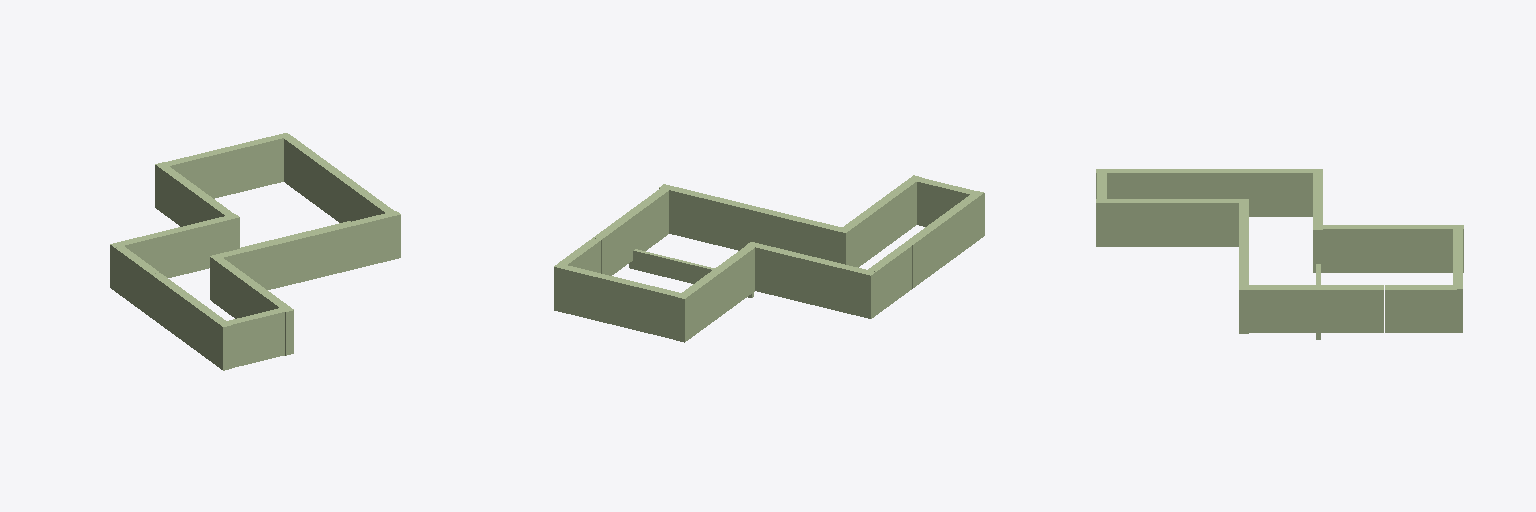
The model's file is level3W.obj.
3 renders of one model, left to right at view 1: azimuth 30°, elevation 25°; view 2: azimuth 150°, elevation 25°; view 3: azimuth 270°, elevation 25°, orthographic.
Visible parts, largest first — view 1: Cube.038_Cube.245, Cube.037_Cube.244, Cube.028_Cube.238, Cube.004_Cube.014, Cube.022_Cube.217, Cube.013_Cube.199, Cube.029_Cube.239, Cube.001_Cube.190, Cube.012_Cube.198, Cube.007_Cube.193, Cube.031_Cube.223, Cube.024_Cube.261 (+6 smaller); view 2: Cube.001_Cube.190, Cube.028_Cube.238, Cube.029_Cube.239, Cube.004_Cube.014, Cube.037_Cube.244, Cube.038_Cube.245, Cube.024_Cube.261, Cube.031_Cube.223, Cube.012_Cube.198, Cube.013_Cube.199, Cube.007_Cube.193, Cube.019_Cube.262 (+8 smaller); view 3: Cube.046_Cube.250, Cube.049_Cube.260, Cube.018_Cube.263, Cube.019_Cube.262, Cube.007_Cube.193, Cube.034_Cube.226, Cube.052_Cube.259, Cube.031_Cube.223, Cube.012_Cube.198, Cube.013_Cube.199, Cube.037_Cube.244, Cube.004_Cube.014 (+1 smaller).
Boxes of the visible parts, box(x1,y1,x2,y2) form: Cube.038_Cube.245: box(273, 226, 338, 287); Cube.037_Cube.244: box(335, 211, 400, 272); Cube.028_Cube.238: box(225, 133, 290, 194); Cube.004_Cube.014: box(173, 214, 239, 275); Cube.022_Cube.217: box(223, 307, 289, 367); Cube.013_Cube.199: box(188, 299, 231, 370); Cube.029_Cube.239: box(164, 148, 229, 198); Cube.001_Cube.190: box(110, 229, 177, 290); Cube.012_Cube.198: box(151, 273, 195, 344); Cube.007_Cube.193: box(115, 246, 159, 317); Cube.031_Cube.223: box(155, 162, 199, 226); Cube.024_Cube.261: box(210, 241, 276, 302); Cube.001_Cube.190: box(808, 257, 875, 318); Cube.028_Cube.238: box(554, 263, 620, 324); Cube.029_Cube.239: box(616, 278, 682, 339); Cube.004_Cube.014: box(747, 242, 812, 303); Cube.037_Cube.244: box(659, 184, 726, 245); Cube.038_Cube.245: box(722, 199, 787, 250); Cube.024_Cube.261: box(783, 214, 849, 265); Cube.031_Cube.223: box(676, 271, 720, 342); Cube.012_Cube.198: box(905, 217, 948, 288); Cube.013_Cube.199: box(940, 191, 984, 262); Cube.007_Cube.193: box(868, 243, 911, 314); Cube.019_Cube.262: box(842, 202, 885, 267); Cube.046_Cube.250: box(1385, 285, 1456, 332); Cube.049_Cube.260: box(1312, 285, 1383, 332); Cube.018_Cube.263: box(1096, 199, 1167, 246); Cube.019_Cube.262: box(1168, 199, 1238, 246); Cube.007_Cube.193: box(1240, 169, 1312, 216); Cube.034_Cube.226: box(1323, 225, 1391, 272); Cube.052_Cube.259: box(1240, 285, 1312, 332); Cube.031_Cube.223: box(1392, 225, 1463, 272); Cube.012_Cube.198: box(1168, 169, 1239, 198); Cube.013_Cube.199: box(1096, 169, 1167, 198); Cube.037_Cube.244: box(1239, 260, 1248, 333); Cube.004_Cube.014: box(1313, 199, 1322, 272).
Bounding box in the file's own units: 7.6 × 1.54 × 9.72.